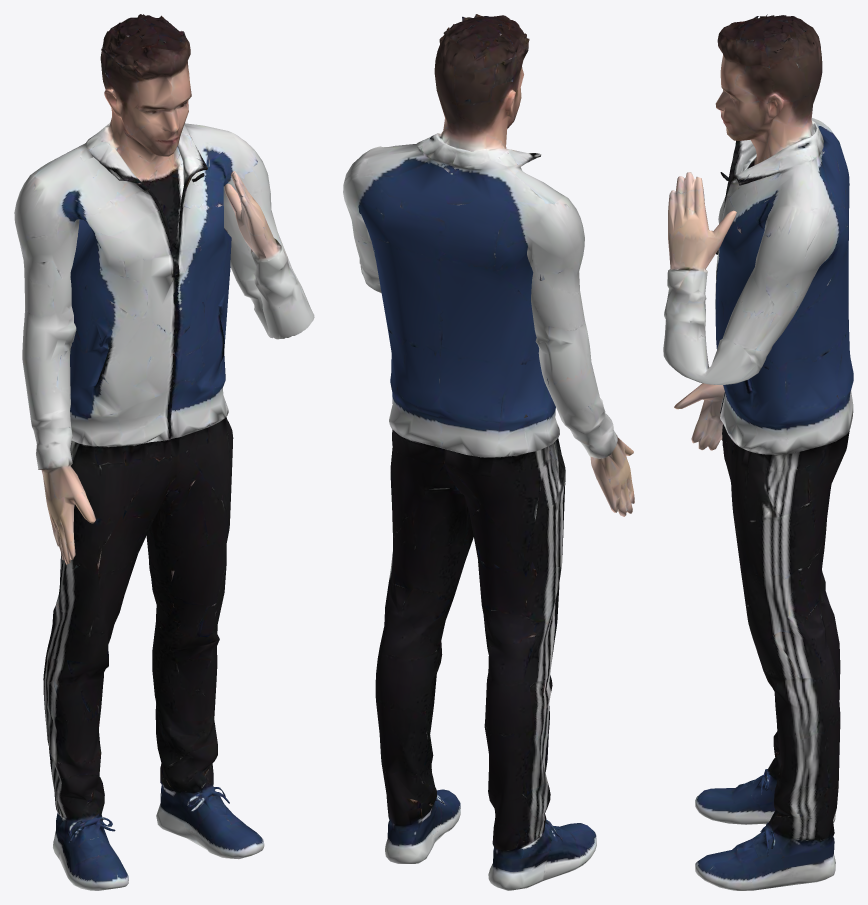
The model's file is dono.glb.
3 views of the same model, side by side, from view 1: azimuth 30°, elevation 25°; view 2: azimuth 150°, elevation 25°; view 3: azimuth 270°, elevation 25° (orthographic).
Bounding box in the file's own units: 0.5715 × 1.78 × 0.3696.
Materials: 1 (1 with a texture image).
